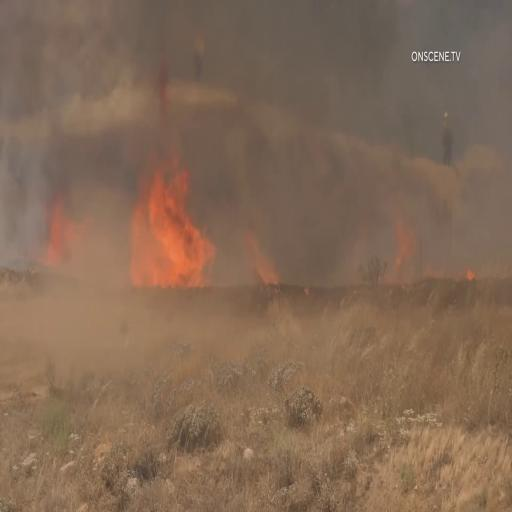fire: (131, 144, 220, 280), (37, 212, 89, 268), (241, 229, 286, 287), (393, 225, 421, 279)
